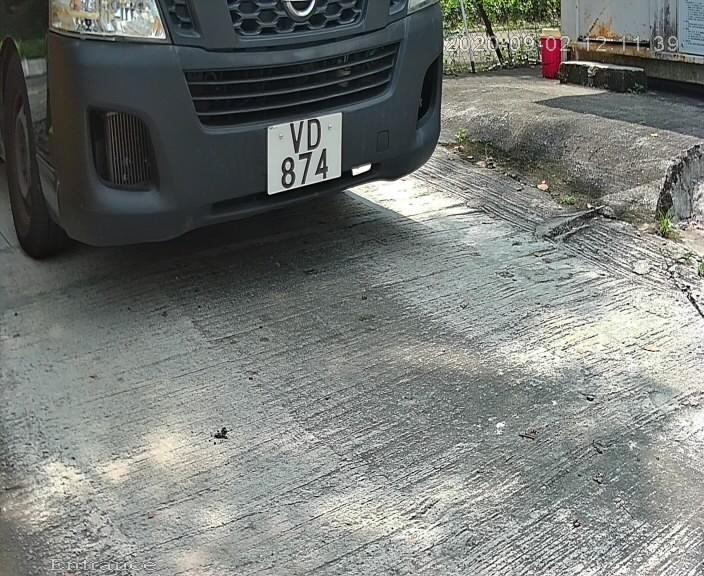Car: (26, 3, 494, 294)
License Plate: (255, 103, 353, 201)
